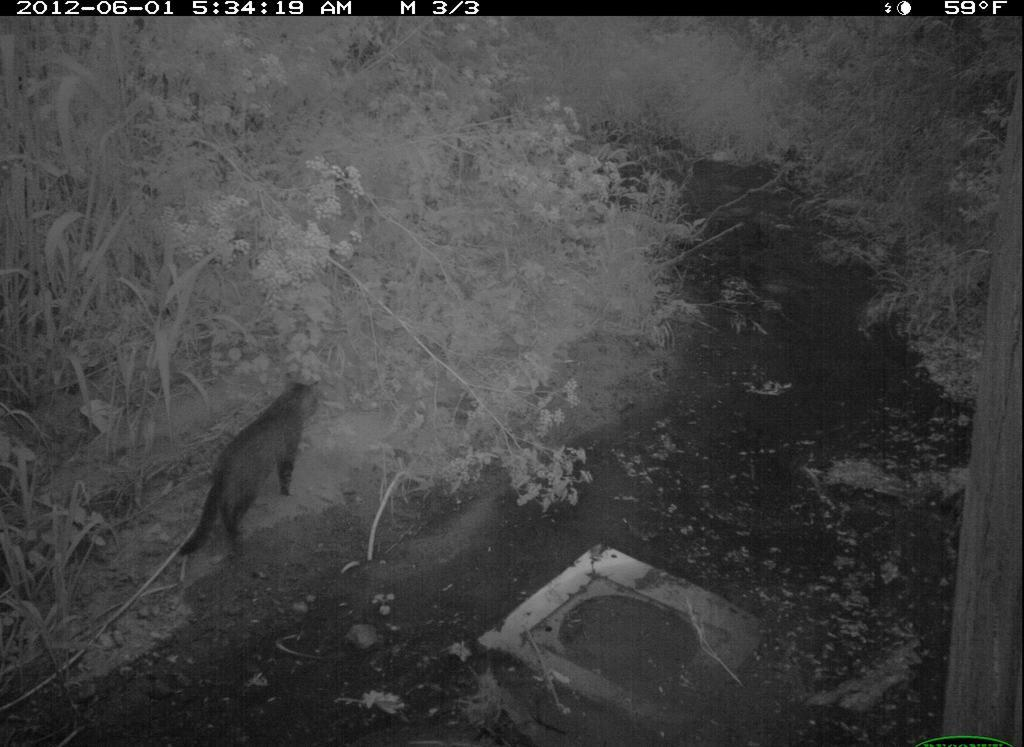cat: (187, 370, 331, 574)
